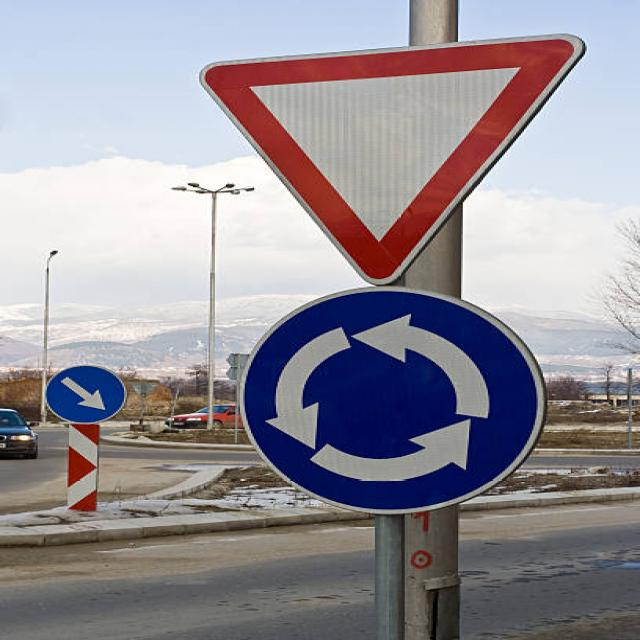round_about: (228, 283, 559, 528)
